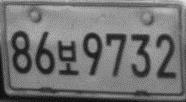2: (155, 33, 177, 79)
3: (130, 33, 151, 77)
6: (35, 31, 55, 75)
7: (105, 32, 127, 78)
8: (10, 29, 33, 74)
9: (81, 31, 103, 76)
보: (57, 39, 80, 76)
